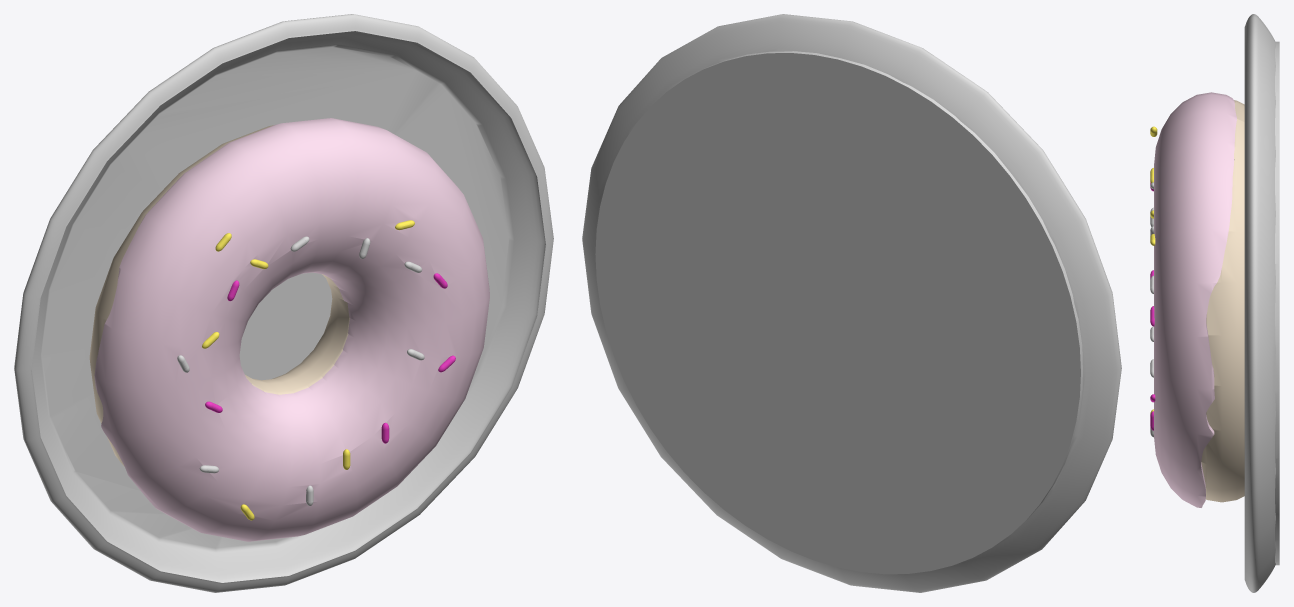
File: donut.glb
The picture shows the model from 3 angles, left to right: view 1: azimuth 30°, elevation 25°; view 2: azimuth 150°, elevation 25°; view 3: azimuth 270°, elevation 25°; orthographic projection. The views are drawn at different scales.
Visible parts, largest first — view 1: Object_4, Object_5, Object_3, Object_6, Object_2; view 2: Object_5; view 3: Object_4, Object_5, Object_3, Object_2, Object_6.
Part boxes in pixels (left/top/right/bottom): Object_4: left=94, top=118, right=489, bottom=541; Object_5: left=14, top=14, right=553, bottom=592; Object_3: left=89, top=125, right=349, bottom=466; Object_6: left=202, top=220, right=414, bottom=520; Object_2: left=205, top=273, right=455, bottom=443; Object_5: left=582, top=14, right=1121, bottom=592; Object_4: left=1154, top=92, right=1236, bottom=507; Object_5: left=1150, top=14, right=1279, bottom=592; Object_3: left=1201, top=100, right=1244, bottom=502; Object_2: left=1150, top=182, right=1155, bottom=430; Object_6: left=1150, top=126, right=1157, bottom=414.
Size of the model in its own units: 166 by 166 by 37.
